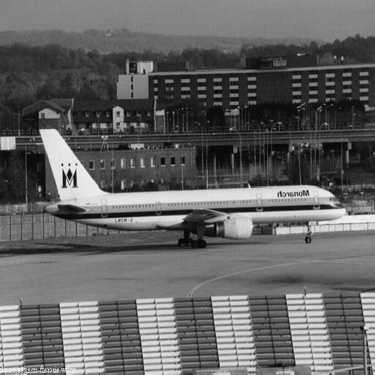airplane: (33, 110, 355, 268)
